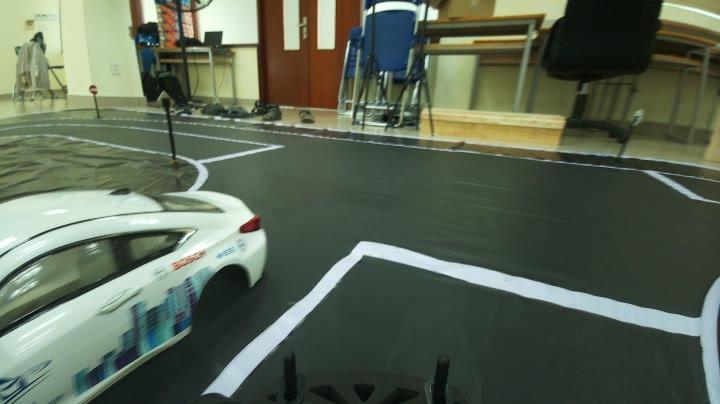car: (2, 192, 265, 388)
